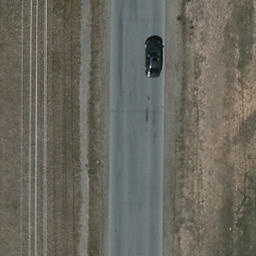car: (145, 36, 164, 78)
